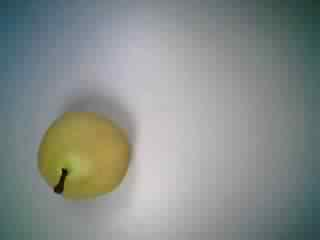pear: (29, 101, 139, 204)
